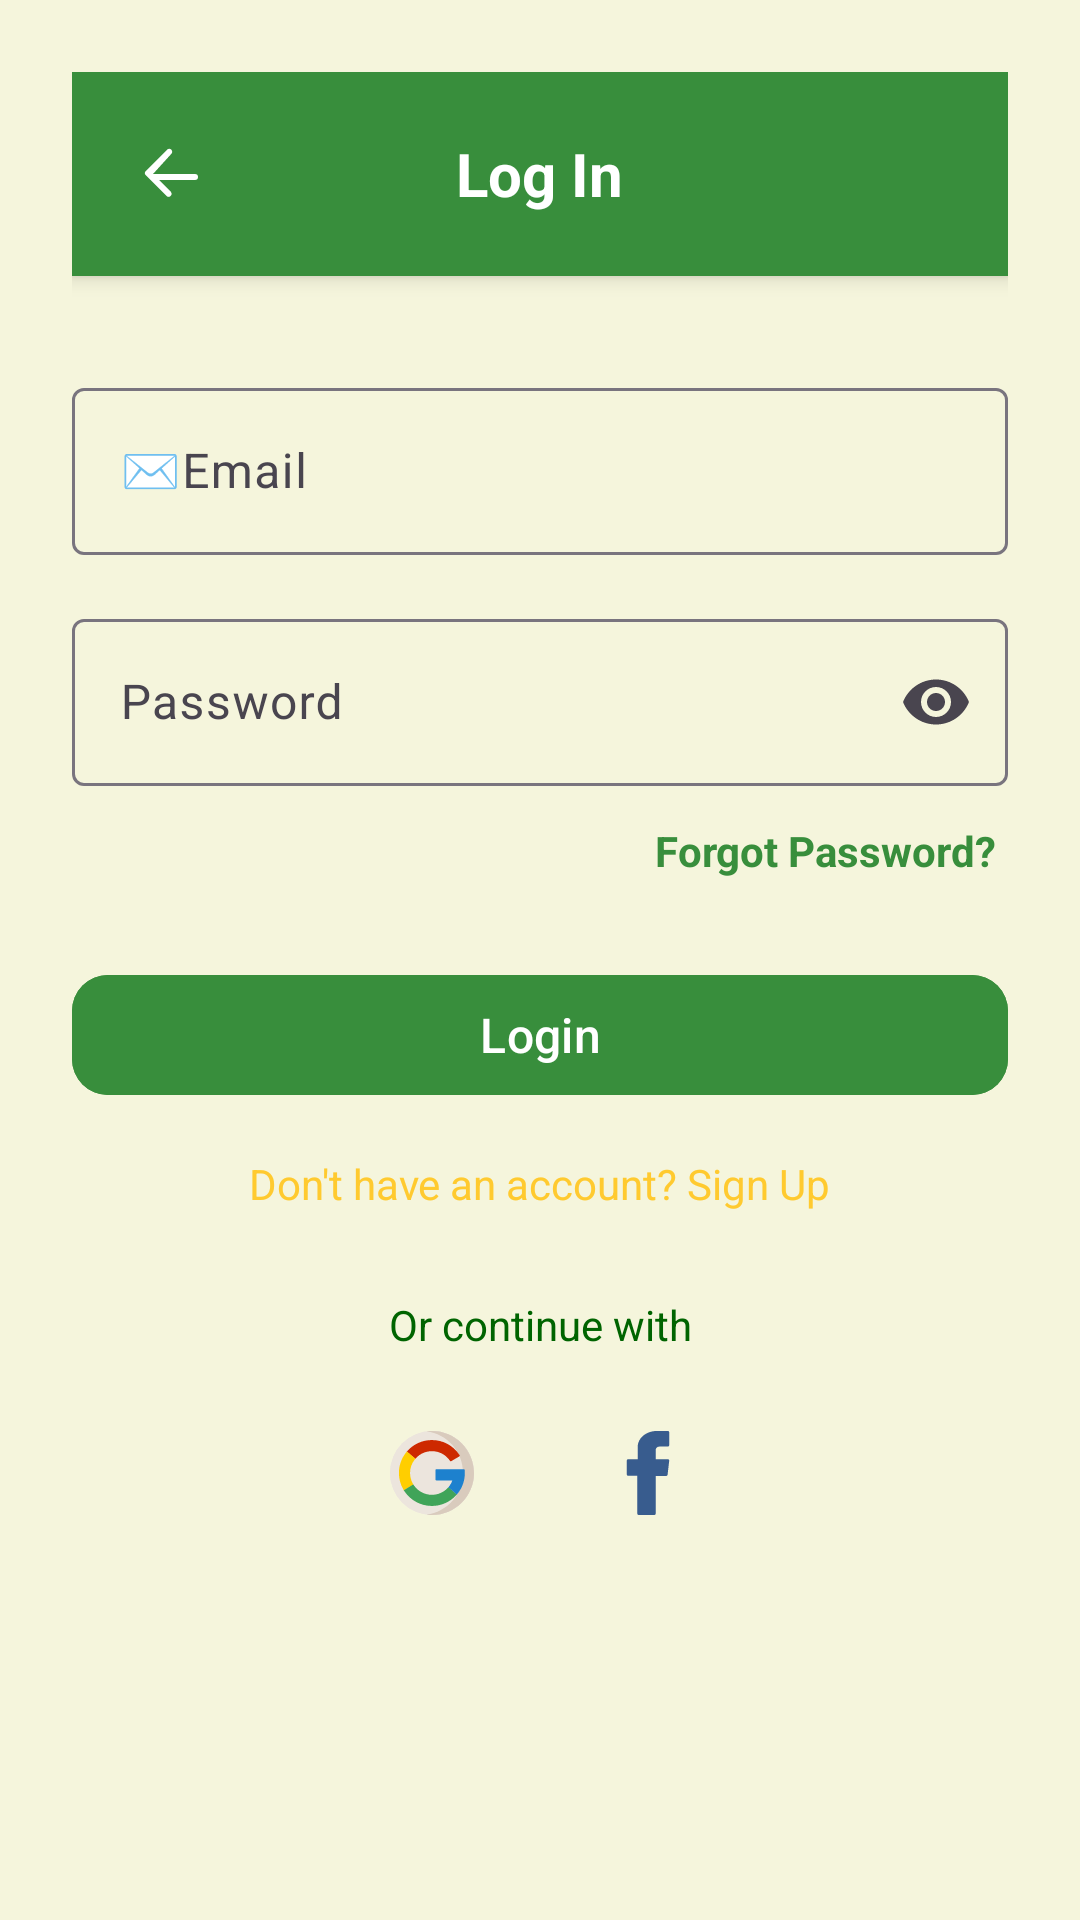

Where icons sit on this 1080*1920 app screen, as (x1, y1, x2, y2):
Back: (144, 148, 198, 197)
